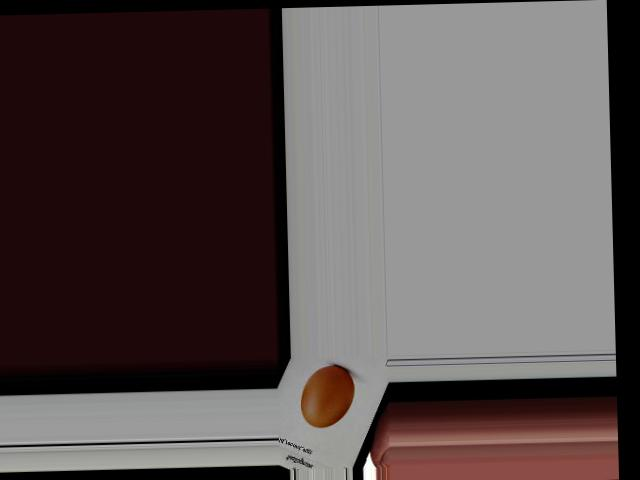egg: (300, 364, 355, 427)
